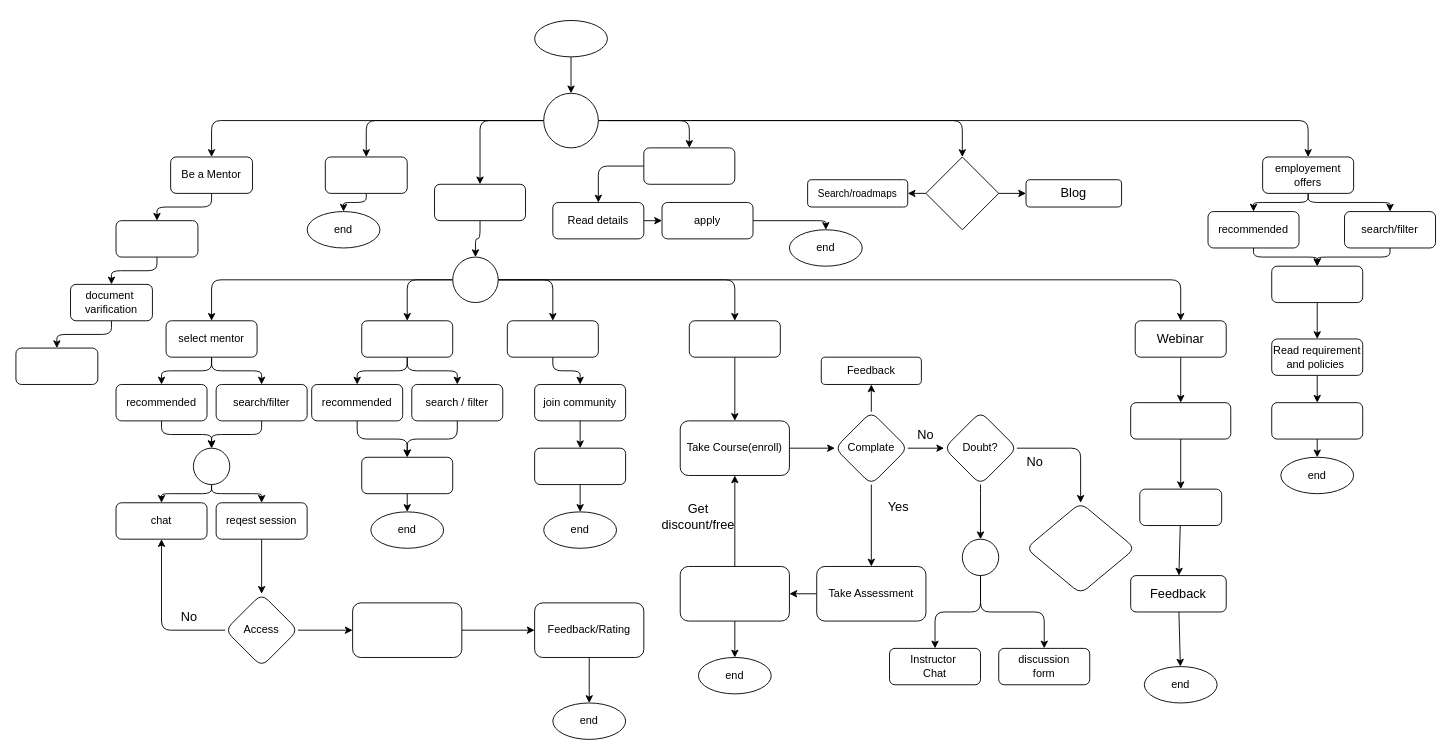
The diagram is 1451 pixels wide and 755 high, and some of its shapes have lost their labels. The box of each missing label's shape, as (x1, y1, x2, y2) in pixels:
Apply for job: (1271, 402, 1363, 439)
Attend: (1139, 488, 1222, 526)
Creadit Added (rewards): (679, 566, 789, 621)
discuss: (534, 447, 626, 485)
fill application: (115, 220, 198, 257)
Register: (1130, 402, 1231, 439)
search community: (506, 320, 598, 357)
search study materials: (361, 320, 453, 357)
see all available grants: (643, 147, 735, 184)
see all courses: (688, 320, 780, 357)
select domain: (434, 183, 526, 221)
select job: (1271, 265, 1363, 303)
signup | login: (324, 156, 407, 193)
SMS reminder get: (1025, 502, 1135, 594)
start: (534, 20, 607, 57)
Take session on platform: (352, 602, 462, 657)
use resourse: (361, 456, 453, 494)
wai for approval: (15, 347, 98, 384)
